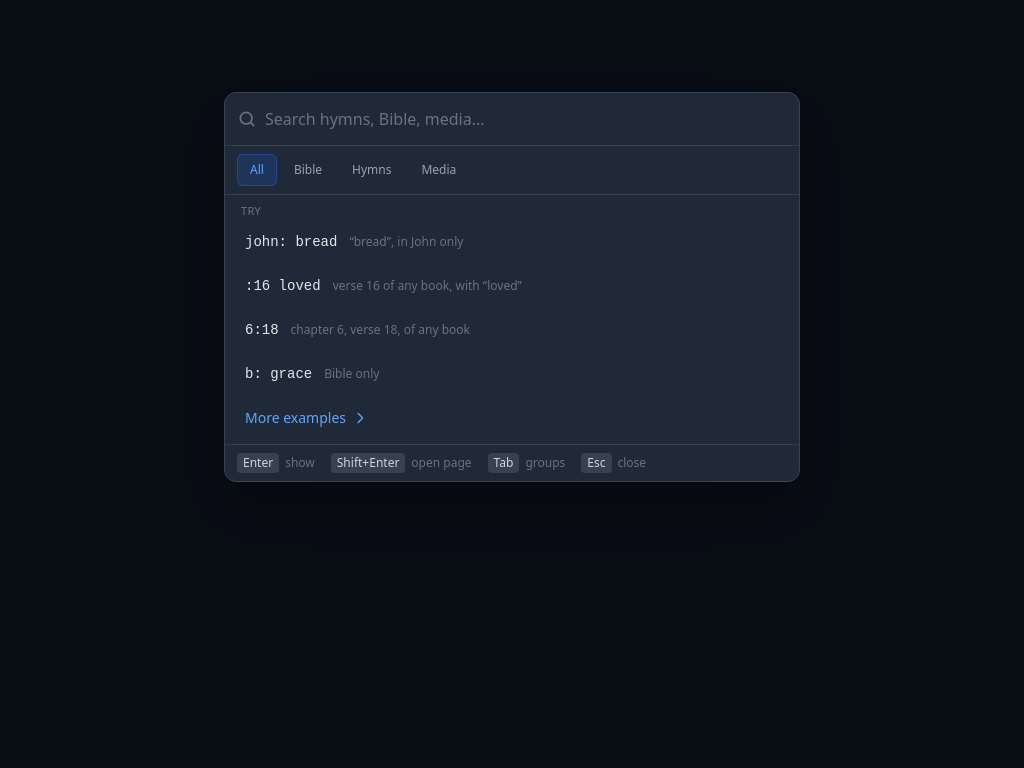
Test case: QuickSearch filter highlight › lines up with the box when a scope chip is on
Type "b:" into the field. click: {"x": 526, "y": 119}
box: [265, 93, 787, 145]
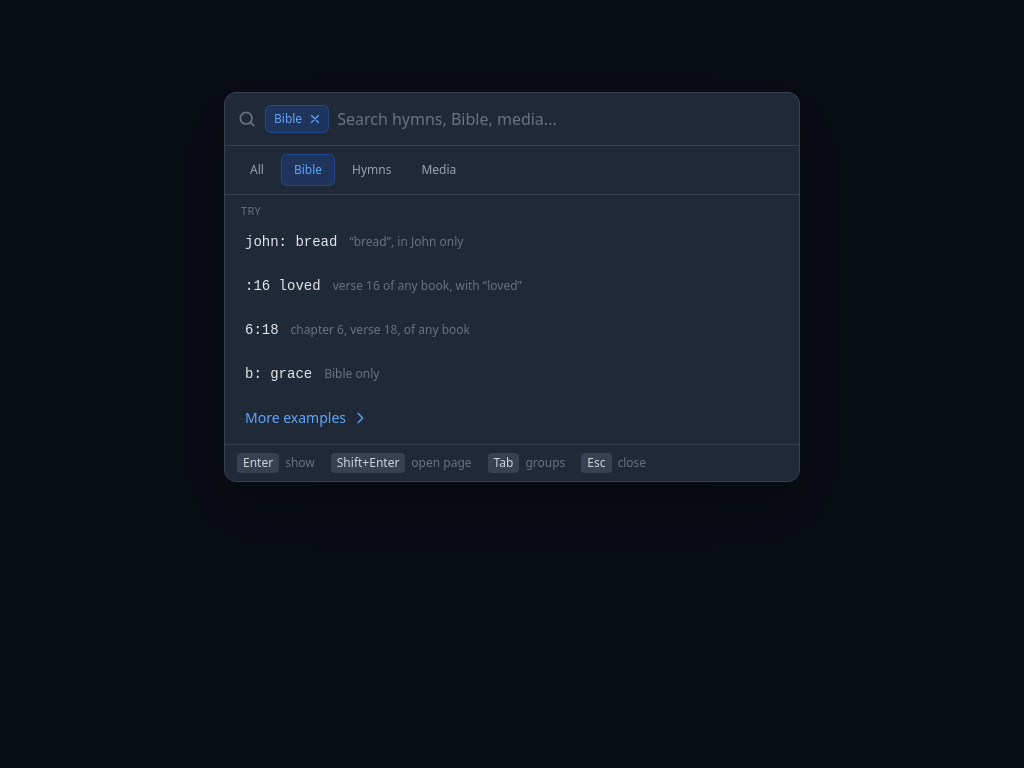
Type "ioan 6: paine" into the field. click: {"x": 562, "y": 119}
box: [337, 93, 787, 145]
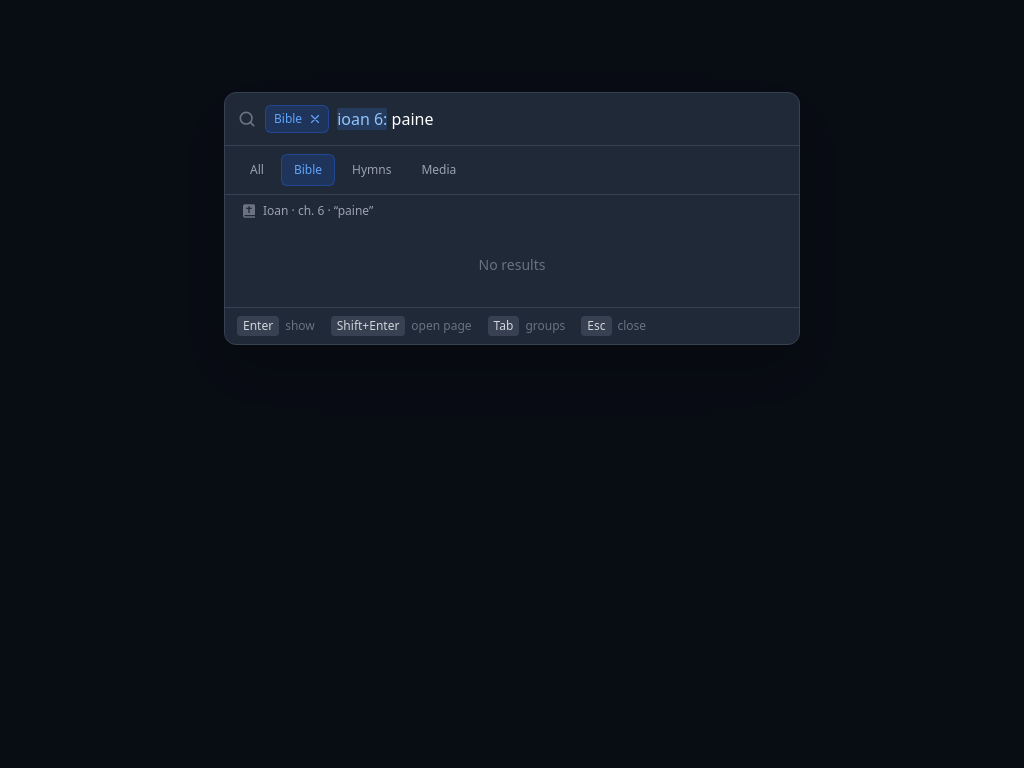
Now the text "ioan 6:" is shown, box [337, 108, 387, 130]
